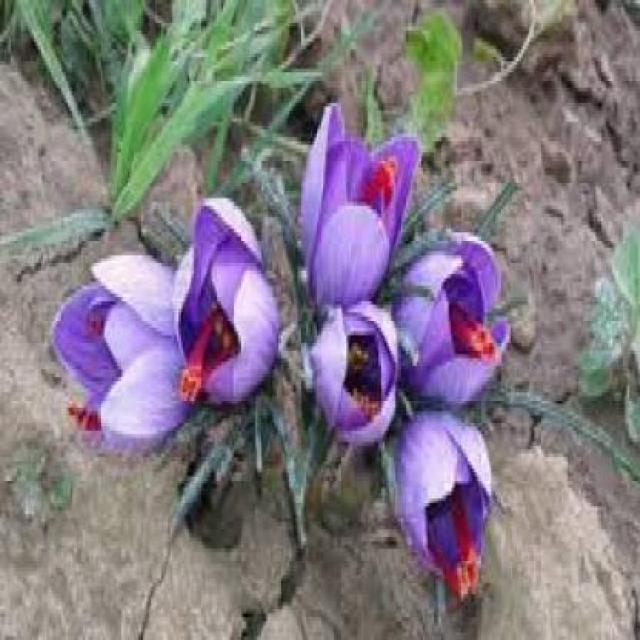Flower: (54, 250, 208, 448), (298, 98, 418, 305), (176, 189, 281, 405), (374, 238, 508, 404), (396, 402, 492, 604), (311, 299, 398, 446)
stigma: (169, 304, 242, 409), (351, 148, 401, 215), (449, 490, 479, 571), (456, 314, 499, 364)
